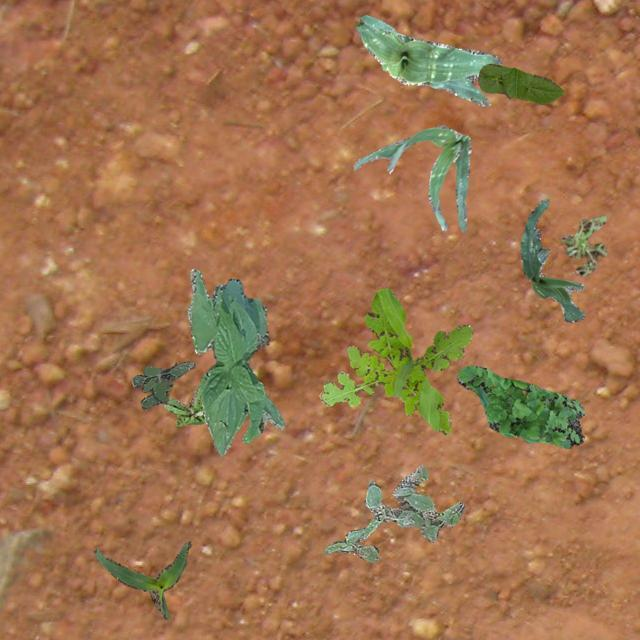crop: (186, 268, 284, 454), (355, 14, 499, 104), (352, 124, 470, 230), (520, 198, 584, 322), (92, 540, 190, 620), (477, 62, 562, 102)
weed: (318, 287, 472, 433), (322, 464, 463, 562), (456, 364, 584, 448), (132, 361, 194, 408), (560, 214, 606, 276), (162, 382, 204, 427)
